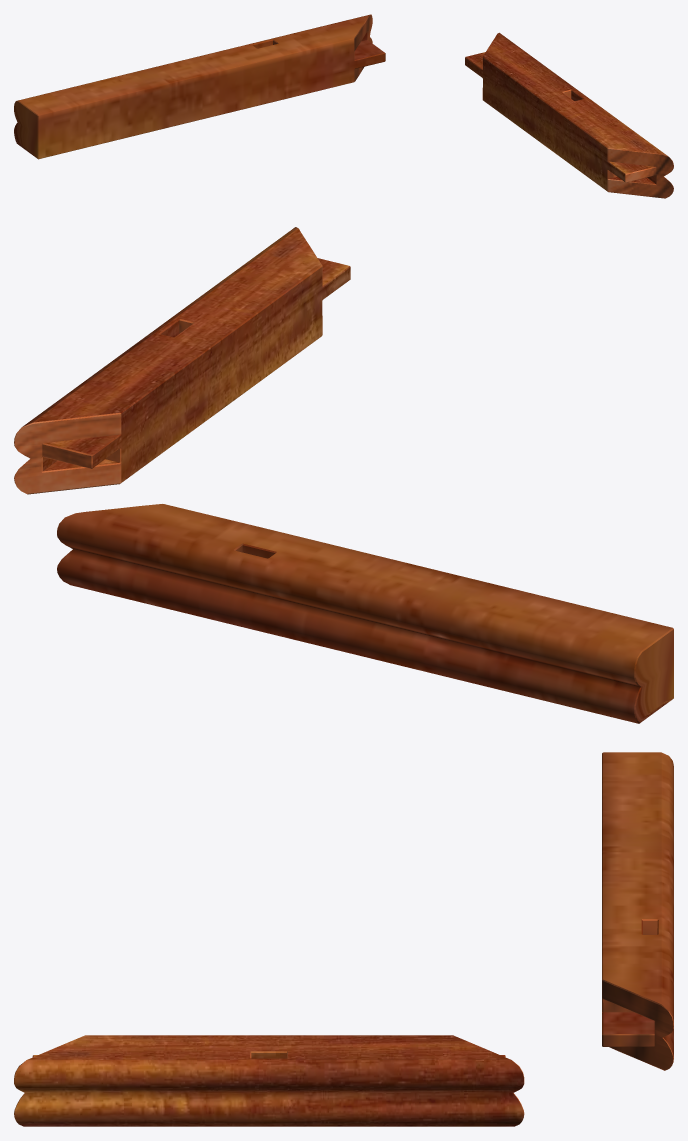
Rendered from ytsy_J_hengzhangi_2.FBX.
3 renders of one model, top to bottom at view 1: azimuth 30°, elevation 25°; view 2: azimuth 150°, elevation 25°; view 3: azimuth 270°, elevation 25°, orthographic. The views are drawn at different scales.
Visible parts, largest first — view 1: ytsy_J_hengzhangi_2, ytsy_J_ cehengzhangi_004; view 2: ytsy_J_hengzhangi_2, ytsy_J_ cehengzhangi_004; view 3: ytsy_J_ cehengzhangi_004, ytsy_J_hengzhangi_2.
Part boxes in pixels (box(x1,y1,x2,y2)): ytsy_J_hengzhangi_2: box(14, 14, 385, 159); ytsy_J_ cehengzhangi_004: box(465, 32, 673, 198); ytsy_J_hengzhangi_2: box(57, 504, 673, 723); ytsy_J_ cehengzhangi_004: box(14, 227, 350, 494); ytsy_J_ cehengzhangi_004: box(14, 1035, 524, 1126); ytsy_J_hengzhangi_2: box(602, 752, 673, 1070).
Bounding box in the file's own units: 41.25 × 4.01 × 36.74.
